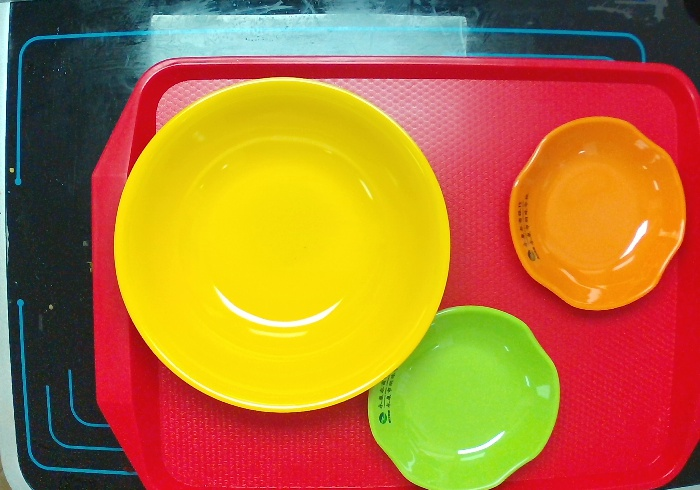YKMZ-Huang_Se_Tang_Wan: (112, 75, 452, 417)
YKMZ-Ju_Se_Ao_Bian_Wan: (508, 114, 688, 314)
YKMZ-Lv_Se_Ao_Bian_Wan: (368, 303, 561, 490)
